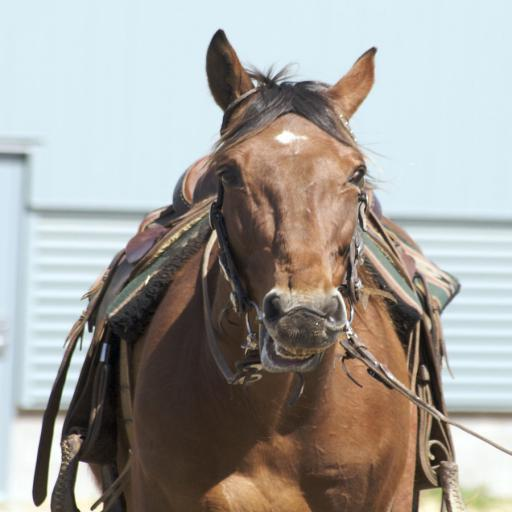horse: (86, 27, 420, 512)
